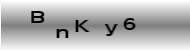6: (122, 16, 136, 30)
B: (30, 10, 45, 24)
K: (74, 19, 90, 33)
n: (54, 27, 69, 40)
y: (103, 22, 118, 38)
